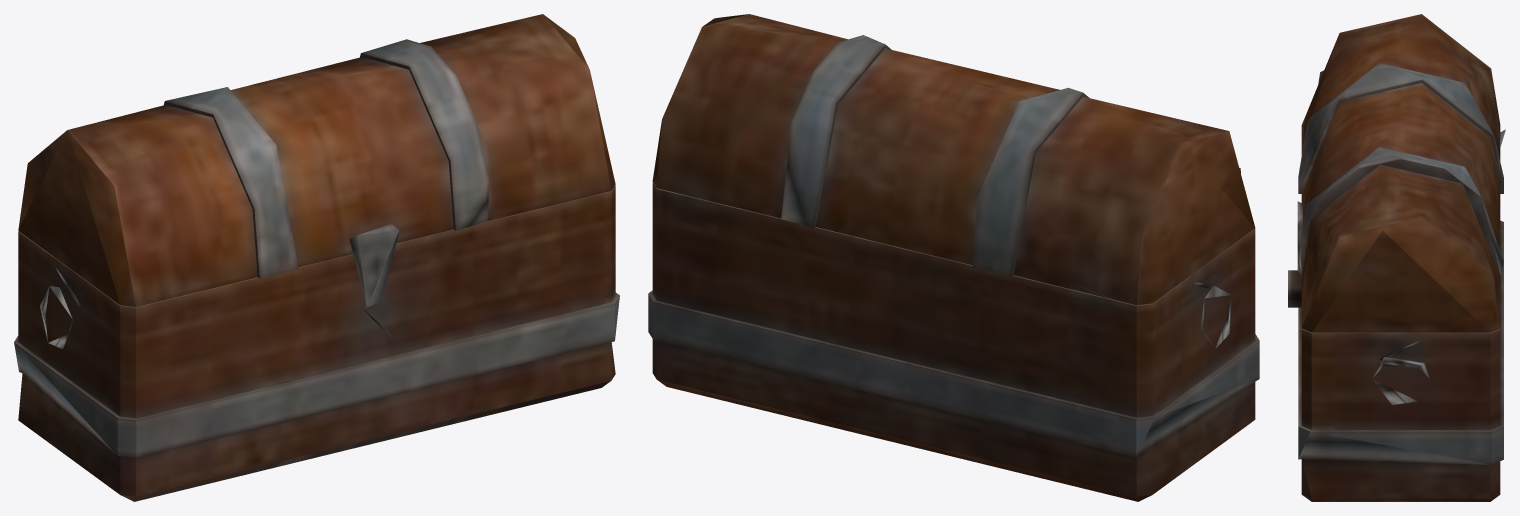
The picture shows the model from 3 angles, left to right: view 1: azimuth 30°, elevation 25°; view 2: azimuth 150°, elevation 25°; view 3: azimuth 270°, elevation 25°; orthographic projection. The views are drawn at different scales.
Visible parts, largest first — view 1: chest; view 2: chest; view 3: chest.
Part boxes in pixels (x1,y1,x2,y2): chest: (14, 14, 619, 501); chest: (648, 14, 1259, 501); chest: (1288, 14, 1505, 501).
Bounding box in the file's own units: 0.9125 × 0.55 × 0.3722.
Materials: 1 (1 with a texture image).
